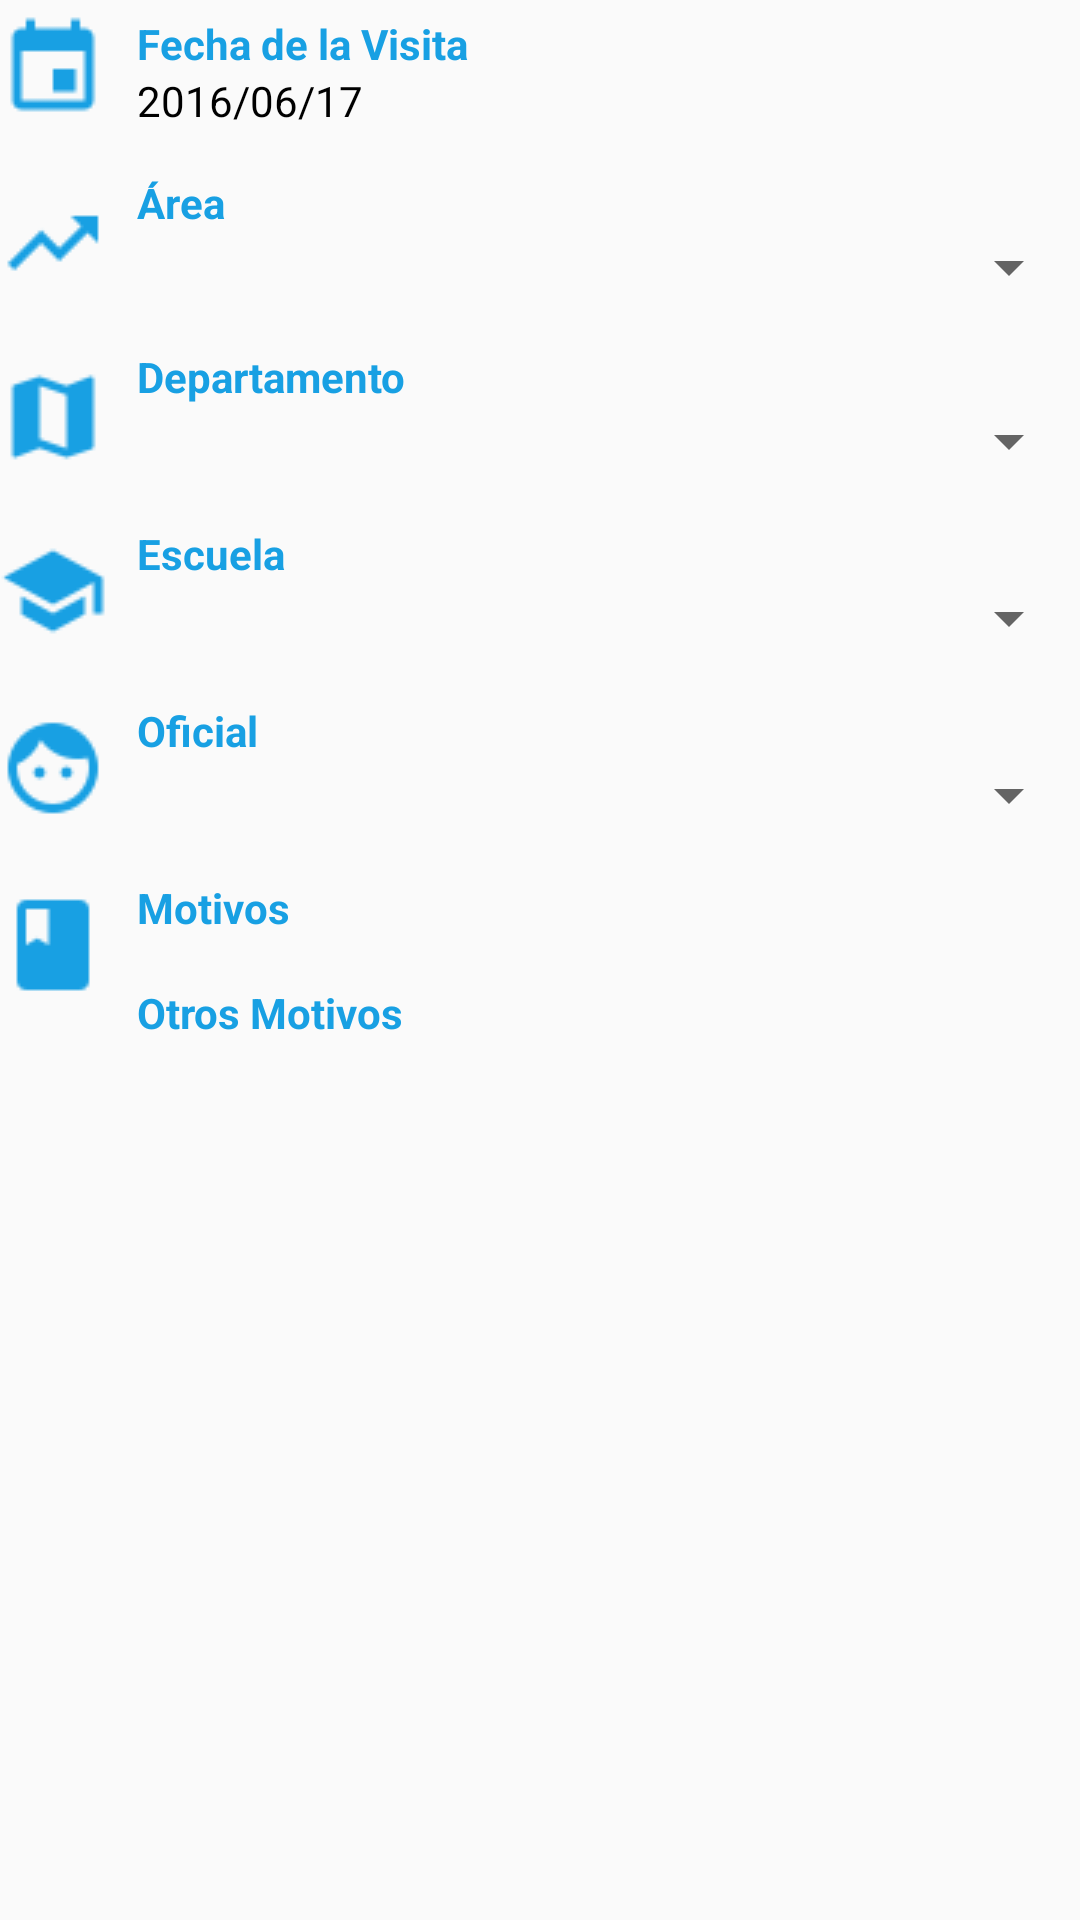

Point at icon controls on the screen. Image size 1080*1920, points as (x,y).
dep: (53,417)
